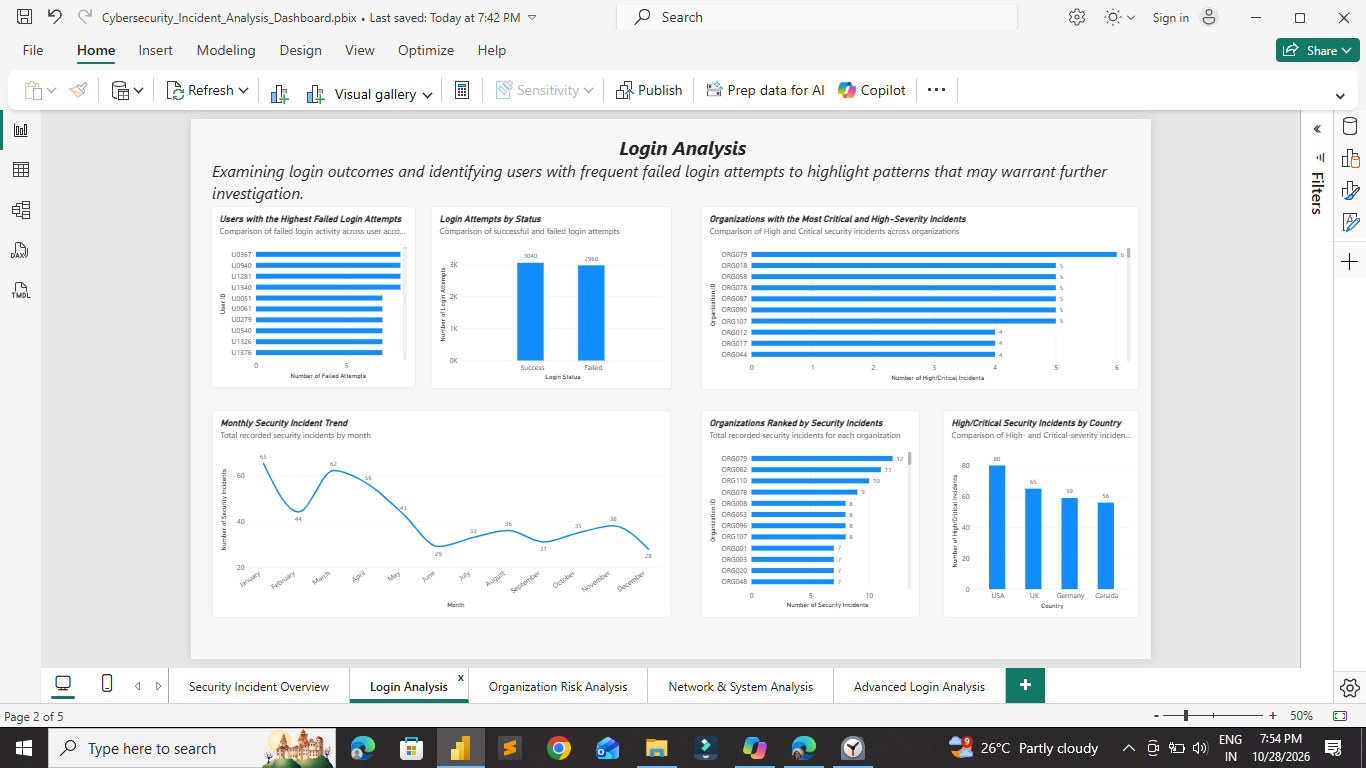

The page's visual inventory and layout, read from the dashboard file:
{"tool":"powerbi","page":{"name":"Login Analysis","canvas":[1920,1080],"ordinal":1},"visuals":[{"type":"columnChart","title":"Login Attempts by Status","fields":{"Category":["login_logs.status"],"Y":["CountNonNull(login_logs.user_id)"]},"box":[479.5,173.4,481.6,366],"z":0},{"type":"clusteredBarChart","title":"Users with the Highest Failed Login Attempts","fields":{"Category":["login_logs.user_id"],"Y":["CountNonNull(login_logs.status)"]},"box":[40.7,173.4,408.8,363.9],"z":1},{"type":"clusteredBarChart","title":"Organizations Ranked by Security Incidents","fields":{"Category":["organizations.org_id"],"Y":["CountNonNull(security_incidents.incident_id)"]},"box":[1020.6,582.4,438.2,414.7],"z":5},{"type":"clusteredBarChart","title":"Organizations with the Most Critical and High-Severity Incidents","fields":{"Category":["organizations.org_id"],"Y":["Count(security_incidents.incident_id)"]},"box":[1020.6,173.5,876.5,367.6],"z":6},{"type":"columnChart","title":"High/Critical Security Incidents by Country","fields":{"Category":["organizations.country"],"Y":["CountNonNull(security_incidents.incident_id)"]},"box":[1504.7,582.2,391.7,415.3],"z":7},{"type":"lineChart","title":"Monthly Security Incident Trend","fields":{"Category":["security_incidents.discovered_date.Variation.Date Hierarchy.Month"],"Y":["CountNonNull(security_incidents.incident_id)"]},"box":[41.2,582.4,917.6,414.7],"z":8},{"type":"textbox","box":[41.2,32.4,1855.9,141.2],"z":11}]}

Visuals, with their boxes on the page's 1920x1080 design canvas (x1, y1, x2, y2). These are canvas units, not pixel positions in the 1366x768 screenshot, which may show the page scaled, cropped or inside an application window:
"Login Attempts by Status" columnChart: {"left": 480, "top": 173, "right": 961, "bottom": 539}
"Users with the Highest Failed Login Attempts" clusteredBarChart: {"left": 41, "top": 173, "right": 450, "bottom": 537}
"Organizations Ranked by Security Incidents" clusteredBarChart: {"left": 1021, "top": 582, "right": 1459, "bottom": 997}
"Organizations with the Most Critical and High-Severity Incidents" clusteredBarChart: {"left": 1021, "top": 174, "right": 1897, "bottom": 541}
"High/Critical Security Incidents by Country" columnChart: {"left": 1505, "top": 582, "right": 1896, "bottom": 998}
"Monthly Security Incident Trend" lineChart: {"left": 41, "top": 582, "right": 959, "bottom": 997}
textbox: {"left": 41, "top": 32, "right": 1897, "bottom": 174}
